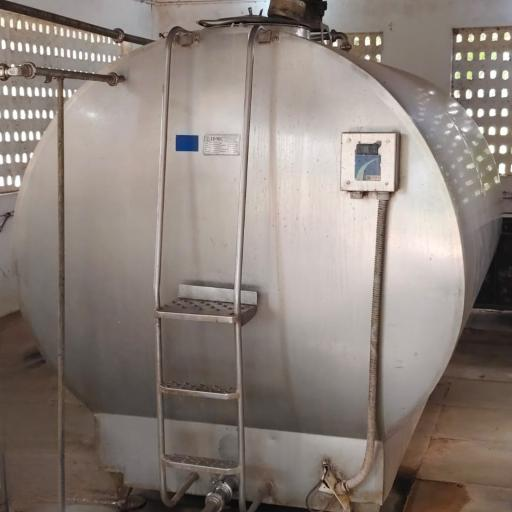silo: (11, 10, 507, 511)
